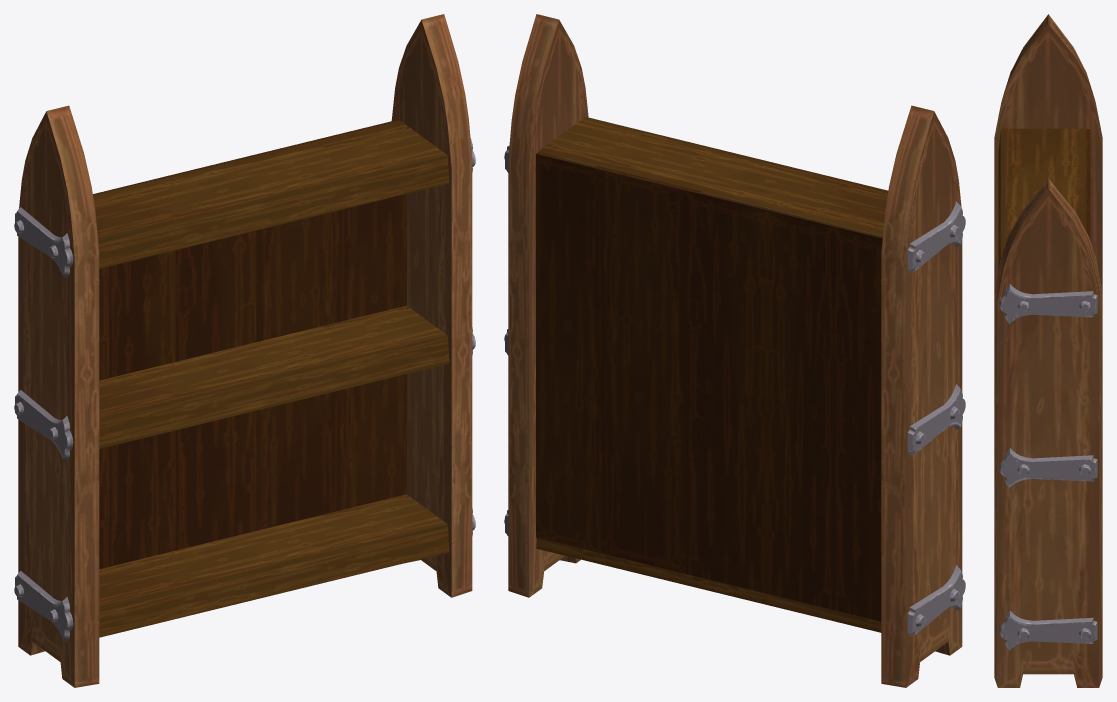
File: shelf_arch.glb
3 renders of one model, left to right at view 1: azimuth 30°, elevation 25°; view 2: azimuth 150°, elevation 25°; view 3: azimuth 270°, elevation 25°, orthographic. The views are drawn at different scales.
Parts seen in each view (by area): view 1: Shelf_Arch; view 2: Shelf_Arch; view 3: Shelf_Arch.
Part boxes in pixels (bbox=[...]): Shelf_Arch: bbox=[14, 14, 475, 687]; Shelf_Arch: bbox=[504, 14, 965, 687]; Shelf_Arch: bbox=[994, 14, 1102, 687].
Size of the model in its own units: 1.25 by 1.59 by 0.3116.
Materials: 2 (2 with a texture image).
